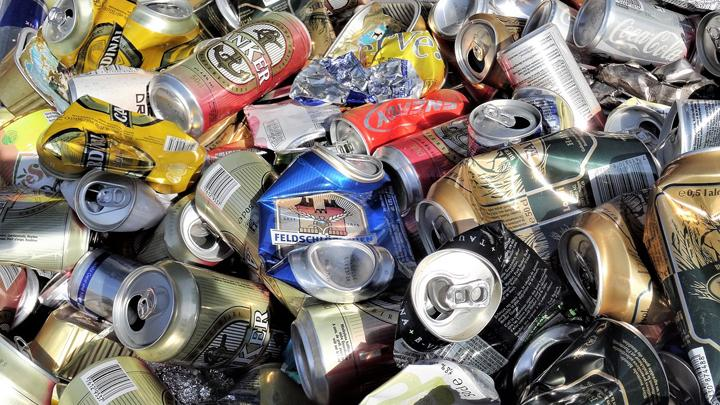lata: (180, 138, 326, 336), (103, 250, 280, 382), (493, 20, 608, 149), (323, 67, 472, 165), (287, 298, 403, 405), (443, 2, 524, 94), (58, 240, 138, 323), (459, 90, 545, 154), (59, 356, 173, 404)
